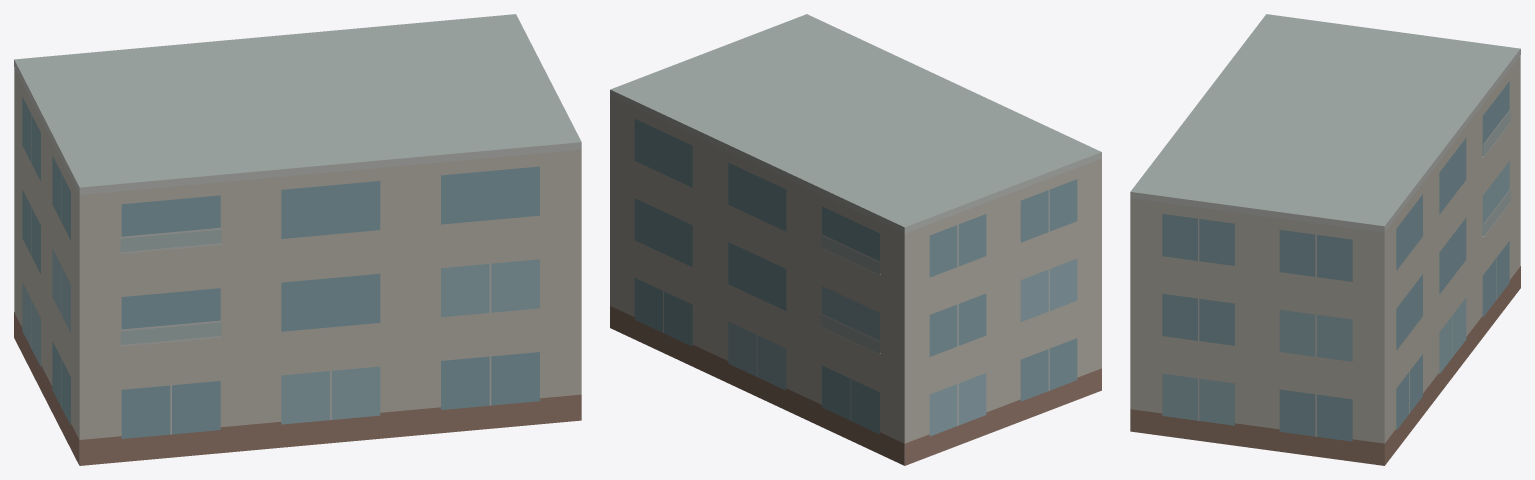
File: survey-upis-33036051.glb
The picture shows the model from 3 angles, left to right: view 1: azimuth 30°, elevation 25°; view 2: azimuth 150°, elevation 25°; view 3: azimuth 270°, elevation 25°; orthographic projection. The views are drawn at different scales.
Parts seen in each view (by area): view 1: survey-upis-33036051.tmp; view 2: survey-upis-33036051.tmp; view 3: survey-upis-33036051.tmp.
Part boxes in pixels (x1,y1,x2,y2): survey-upis-33036051.tmp: (14, 14, 581, 465); survey-upis-33036051.tmp: (610, 14, 1101, 465); survey-upis-33036051.tmp: (1130, 14, 1520, 465).
Bounding box in the file's own units: 17.39 × 9.15 × 13.52.
